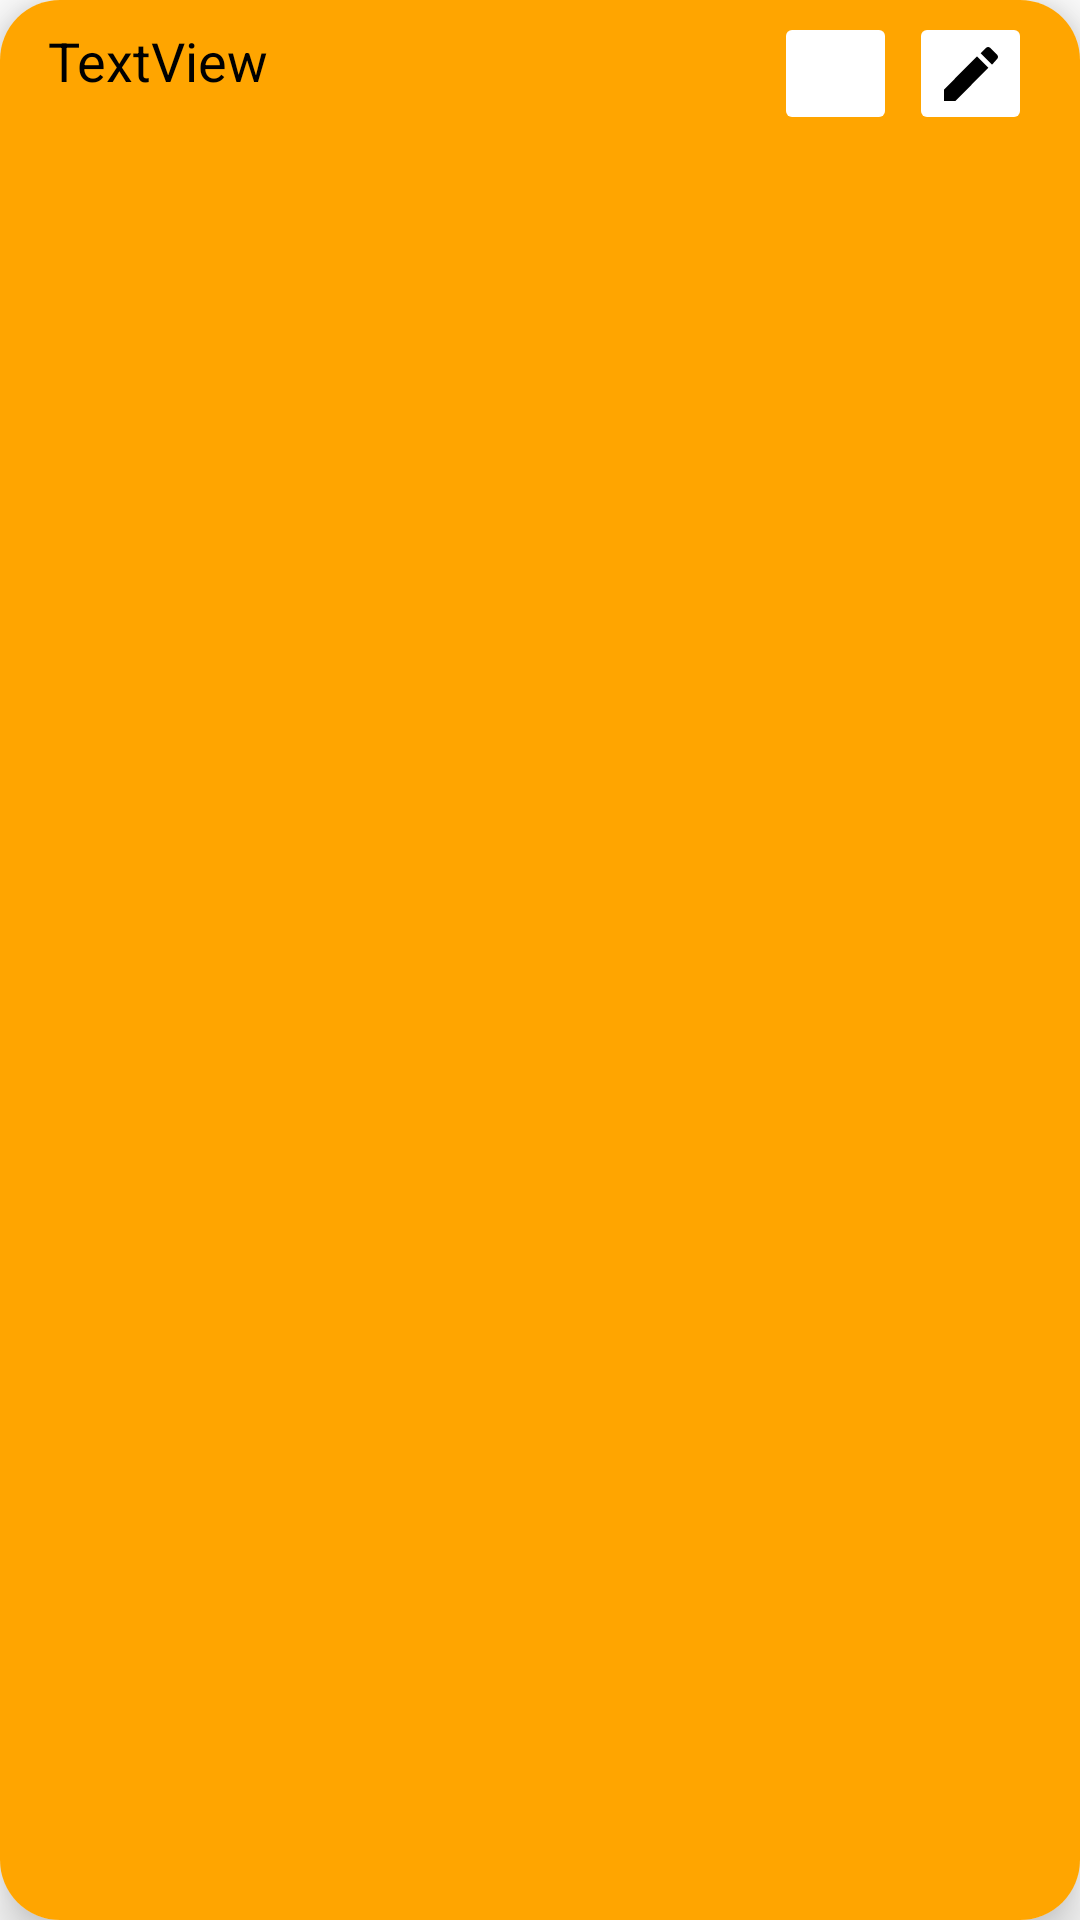

Icon bounding boxes for this 1080px×1920px phone screenshot, format {"left": x1, "top": y1, "right": x2, "bottom": y2}:
edit: {"left": 921, "top": 30, "right": 1020, "bottom": 117}
